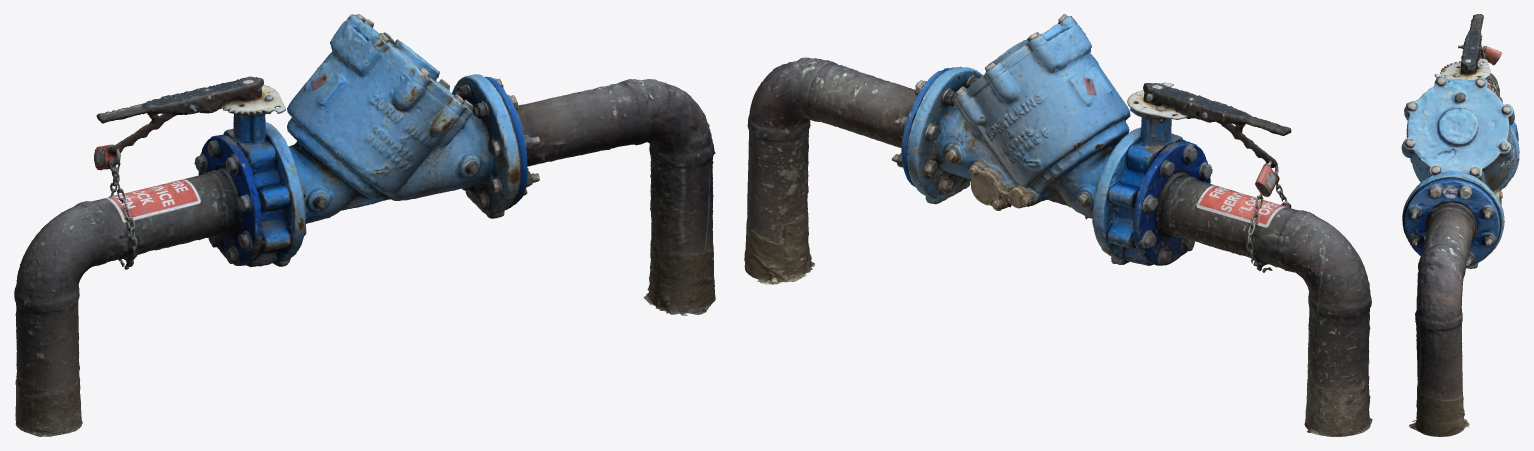
3 views of the same model, side by side, from view 1: azimuth 30°, elevation 25°; view 2: azimuth 150°, elevation 25°; view 3: azimuth 270°, elevation 25° (orthographic). The views are drawn at different scales.
Parts seen in each view (by area): view 1: valve4_2; view 2: valve4_2; view 3: valve4_2.
Boxes of the visible parts, x1=… form: valve4_2: x1=14, y1=14, x2=715, y2=436; valve4_2: x1=744, y1=14, x2=1372, y2=436; valve4_2: x1=1401, y1=14, x2=1519, y2=436.
Size of the model in its own units: 6.61 by 3.19 by 1.4.
2 materials, 2 textured.
